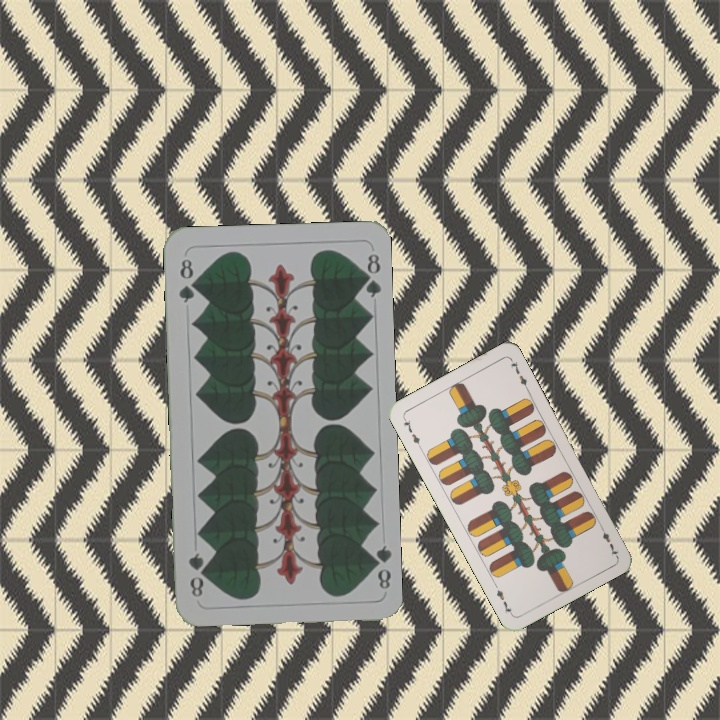E7: (596, 521, 621, 559), (399, 414, 424, 451)
G8: (366, 541, 394, 591), (174, 254, 198, 306)
